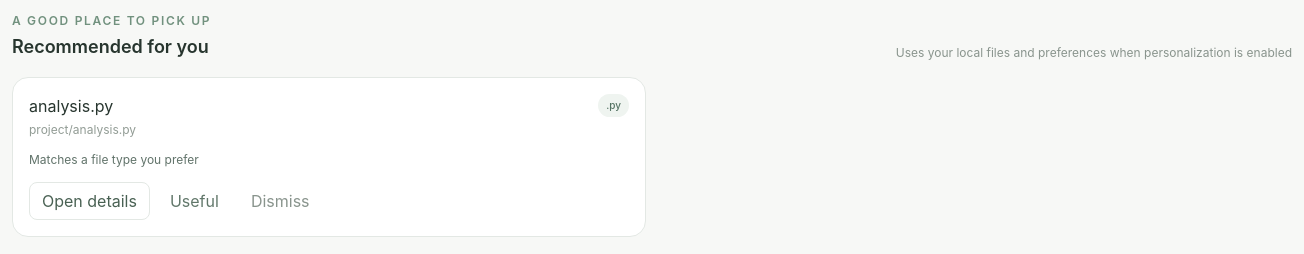
it: RecommendationsPanel › renders concise recommendation explanations and supports dismissal
The image size is (1304, 254).
Expected: the button "analysis.py" is shown, [29, 94, 113, 118]
Expected: the text "Matches a file type you prefer" is shown, [29, 152, 199, 167]
Click the button "Dismiss": (280, 201) [239, 182, 322, 220]
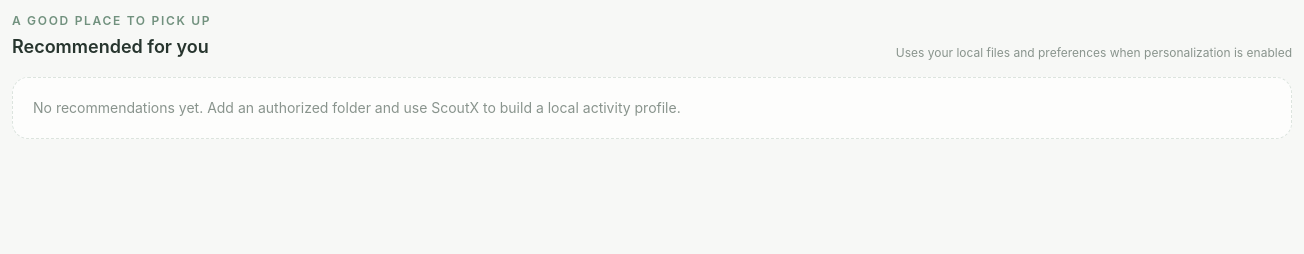
Expected: the button "analysis.py" is gone
